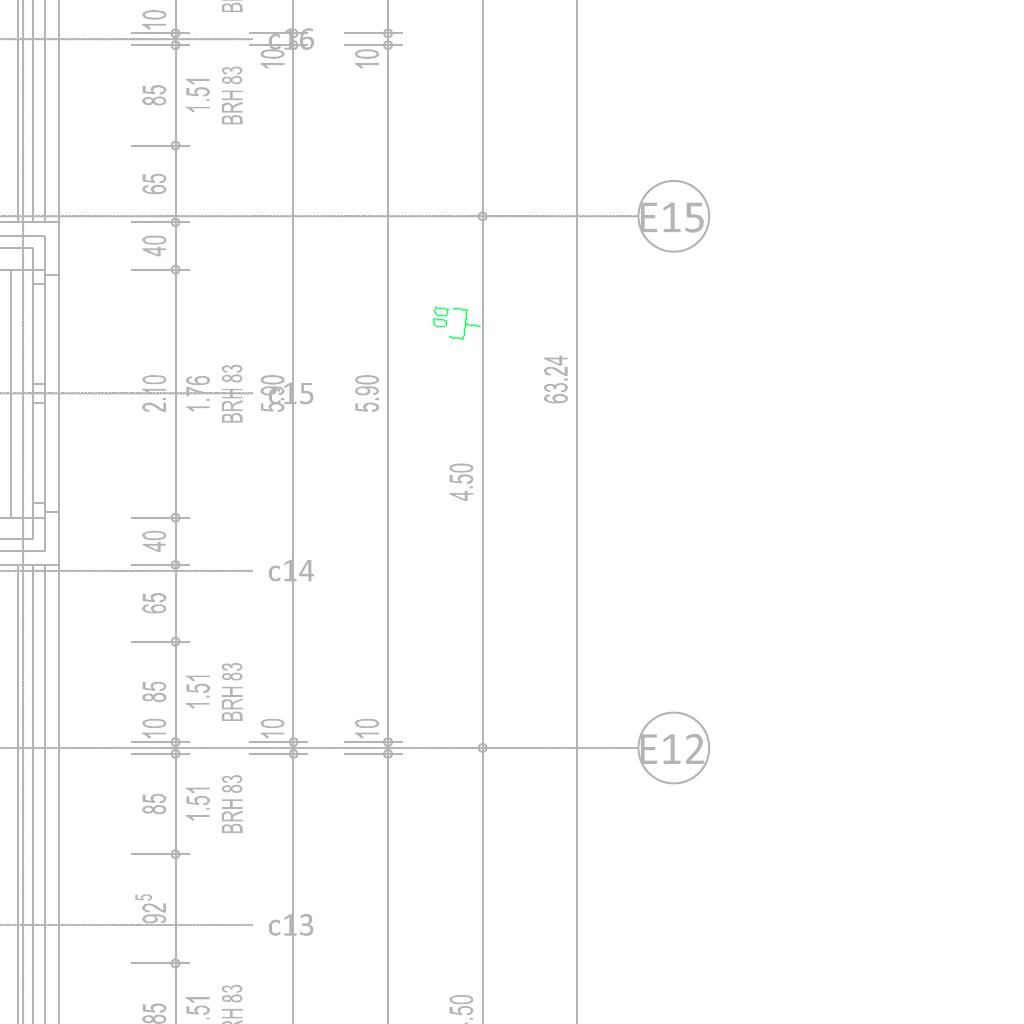Datenanschluss_zweifach: (429, 303, 484, 343)
